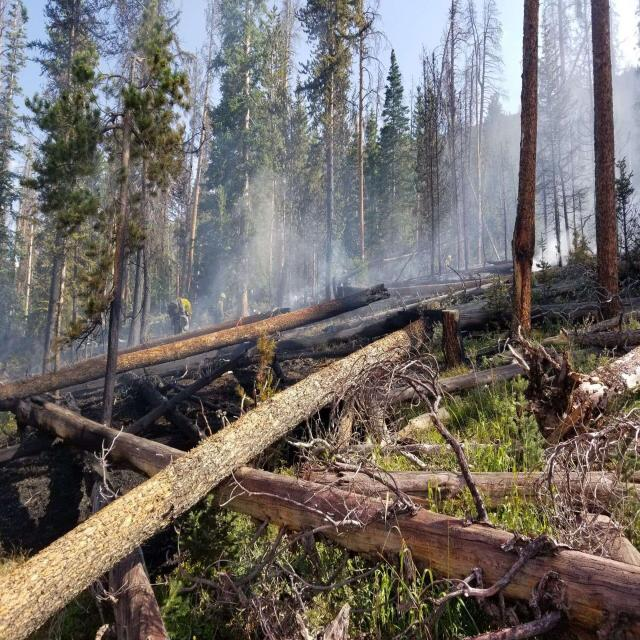Smoke: (444, 45, 628, 292), (181, 170, 367, 316)
